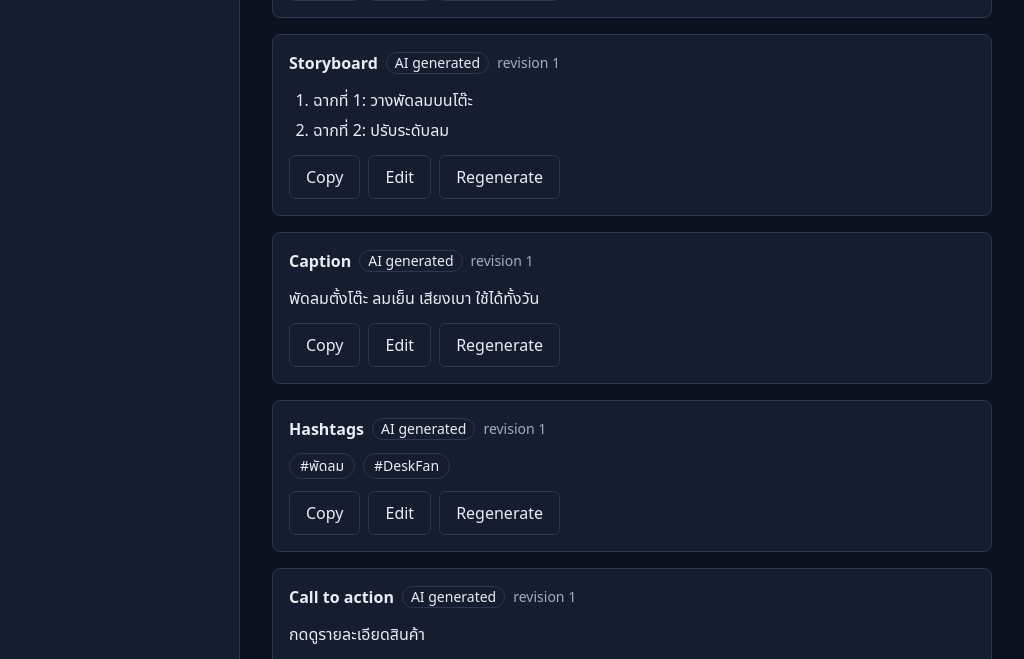
it: DraftPage: regenerate a section › shows any other error in an alert with its message
This screenshot has width=1024, height=659.
(page scrolled)
Click the 3rd button "Regenerate": (500, 345) [439,323,560,367]
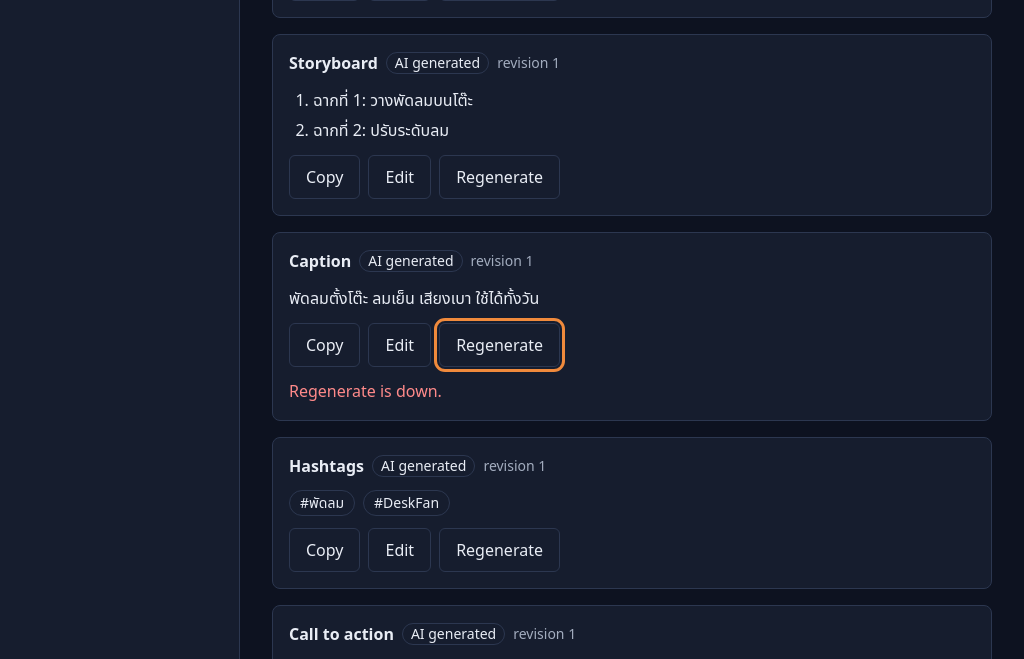
Now the message reads "Regenerate is down.", box [289,380,442,402]
